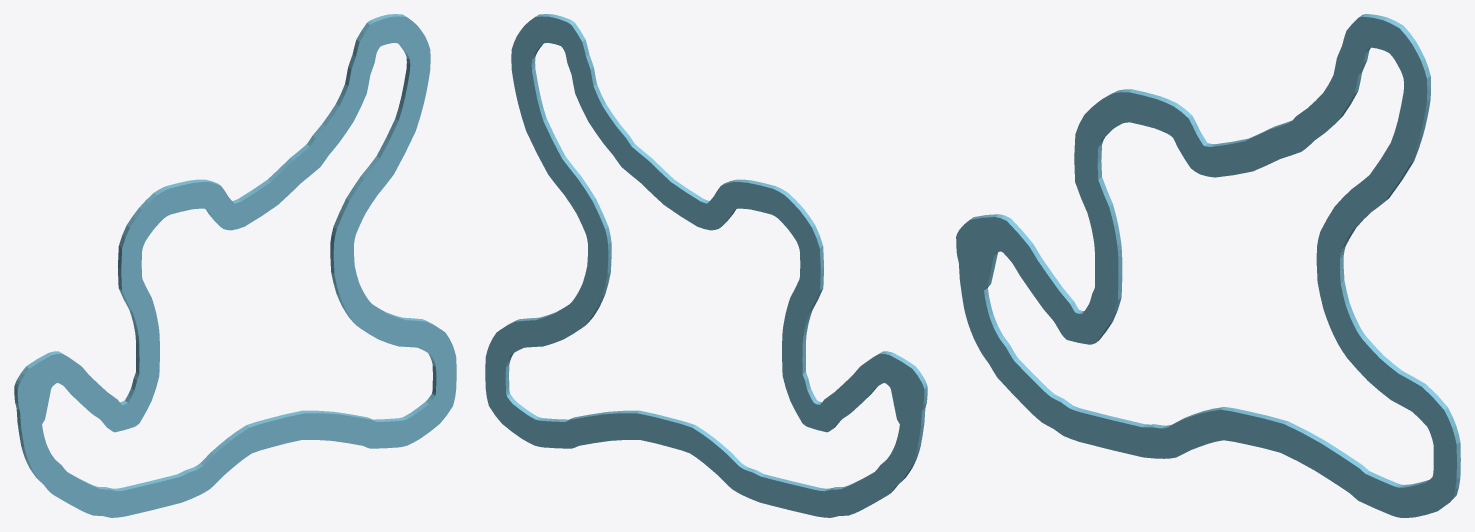
File: tinker.obj
3 views of the same model, side by side, from view 1: azimuth 30°, elevation 25°; view 2: azimuth 150°, elevation 25°; view 3: azimuth 330°, elevation 25° (orthographic). The views are drawn at different scales.
Visible parts, largest first — view 1: obj_0; view 2: obj_0; view 3: obj_0.
Part boxes in pixels (x1,y1,x2,y2): obj_0: [14, 14, 456, 517]; obj_0: [485, 14, 927, 517]; obj_0: [956, 14, 1460, 517].
Size of the model in its own units: 75 by 71 by 1.
